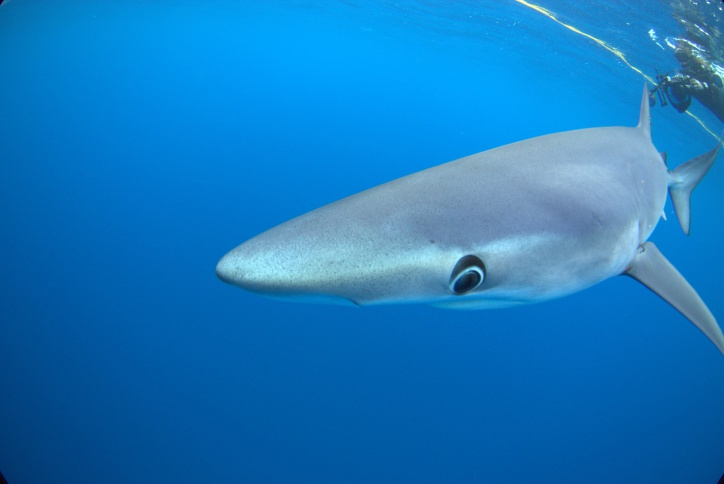Azul: (203, 71, 724, 392)
